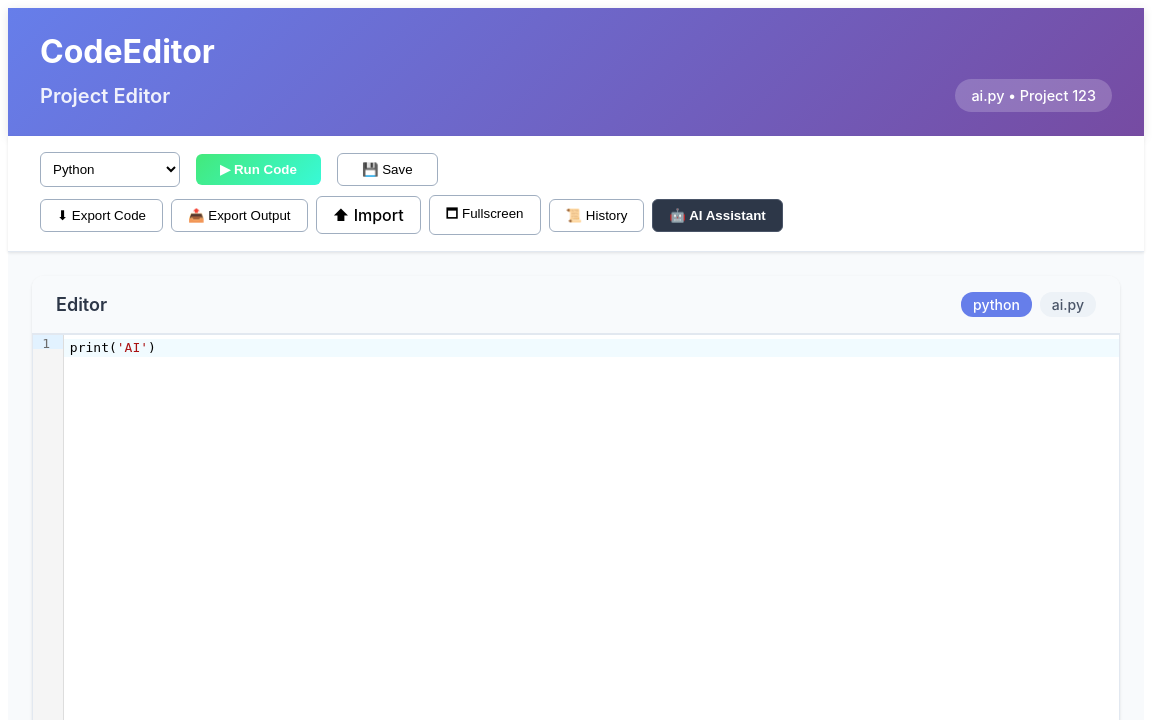
Test: Editor Component › shows AI assistant and sends chat message
The width and height of the screenshot is (1152, 720).
Click the button "🤖 AI Assistant" at (718, 215), box [652,198,783,232]
(page scrolled)
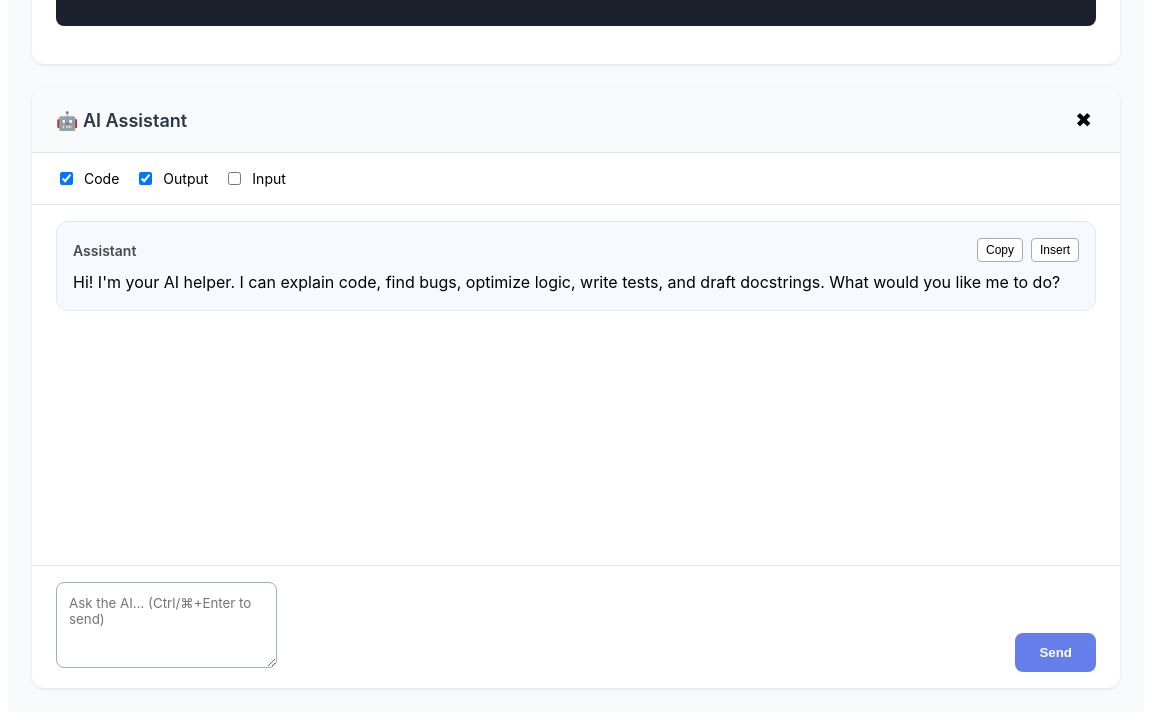
Type "Explain code" into the text box with placeholder "Ask the AI… (Ctrl/⌘+Enter to send)" at (166, 625), box [56,582,277,668]
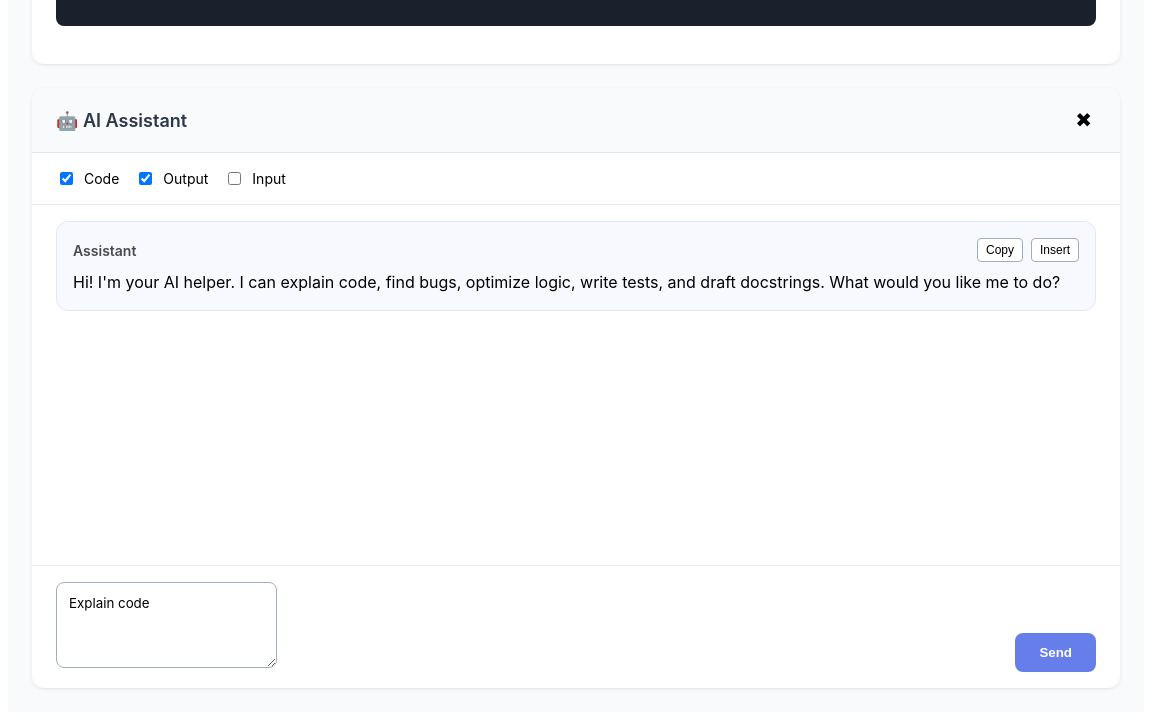
Click the button "Send" at (1056, 652), box [1015,633,1096,672]
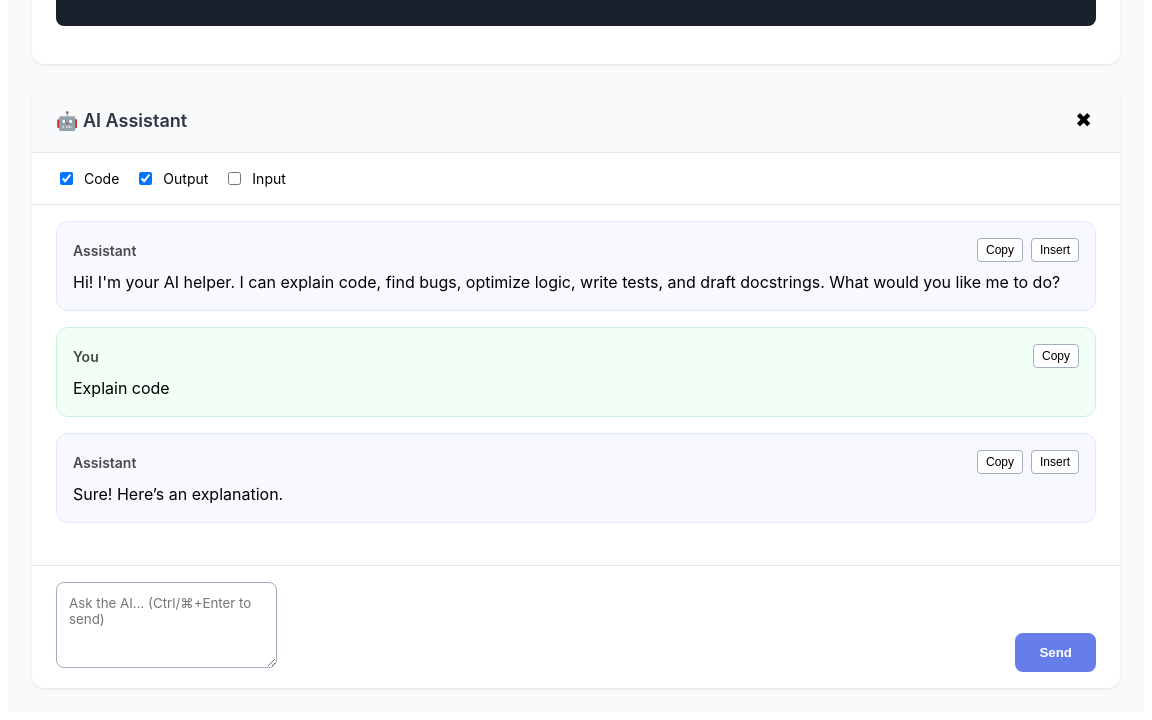
Check: the text "Sure! Here’s an explanation." is shown, box [73,484,283,504]
